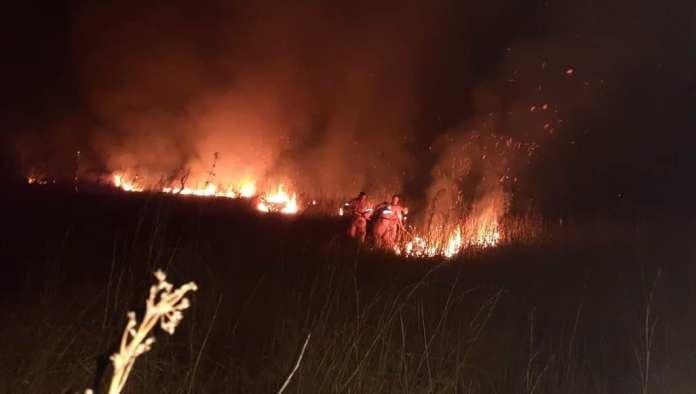fire: (260, 182, 299, 214), (164, 183, 252, 196), (402, 233, 459, 253), (109, 173, 146, 193), (479, 221, 503, 244)
smoke: (198, 88, 392, 158)
